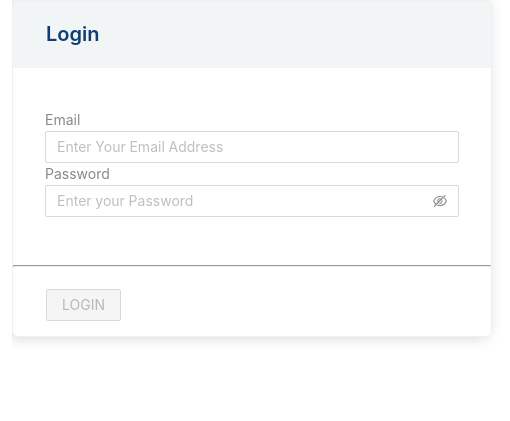
Test: Shows validation error for password field
Type "abc" into the password field with test id "password-input-field" at (243,201), box [57,190,429,212]
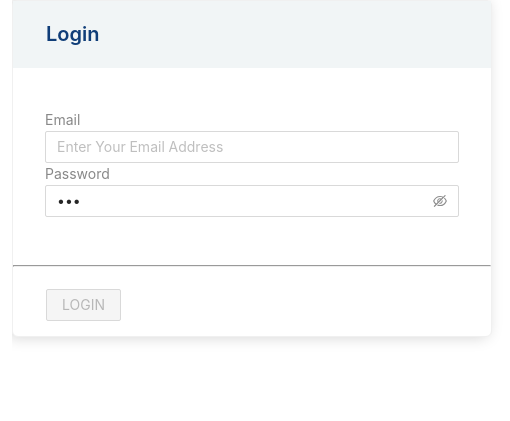
Leave the password field with test id "password-input-field", box [57,190,429,212]
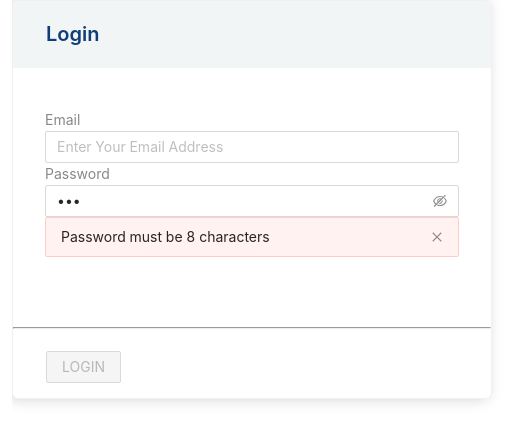
Now the text "Password must be 8 characters" is shown, box [61,228,270,245]
Clear the password field with test id "password-input-field" at (243,201), box [57,190,429,212]
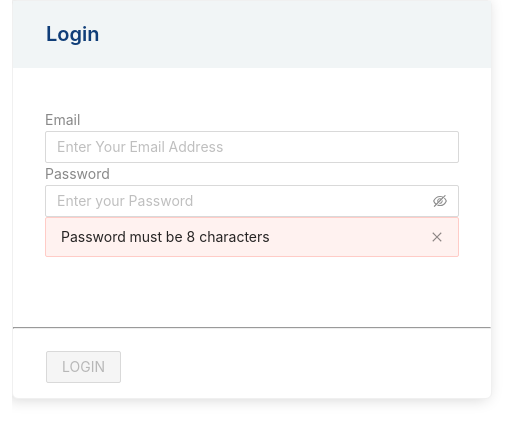
Leave the password field with test id "password-input-field", box [57,190,429,212]
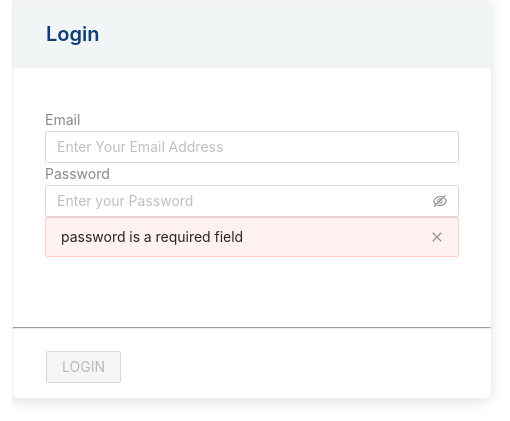
Now the text "password is a required field" is shown, box [61,228,243,245]
